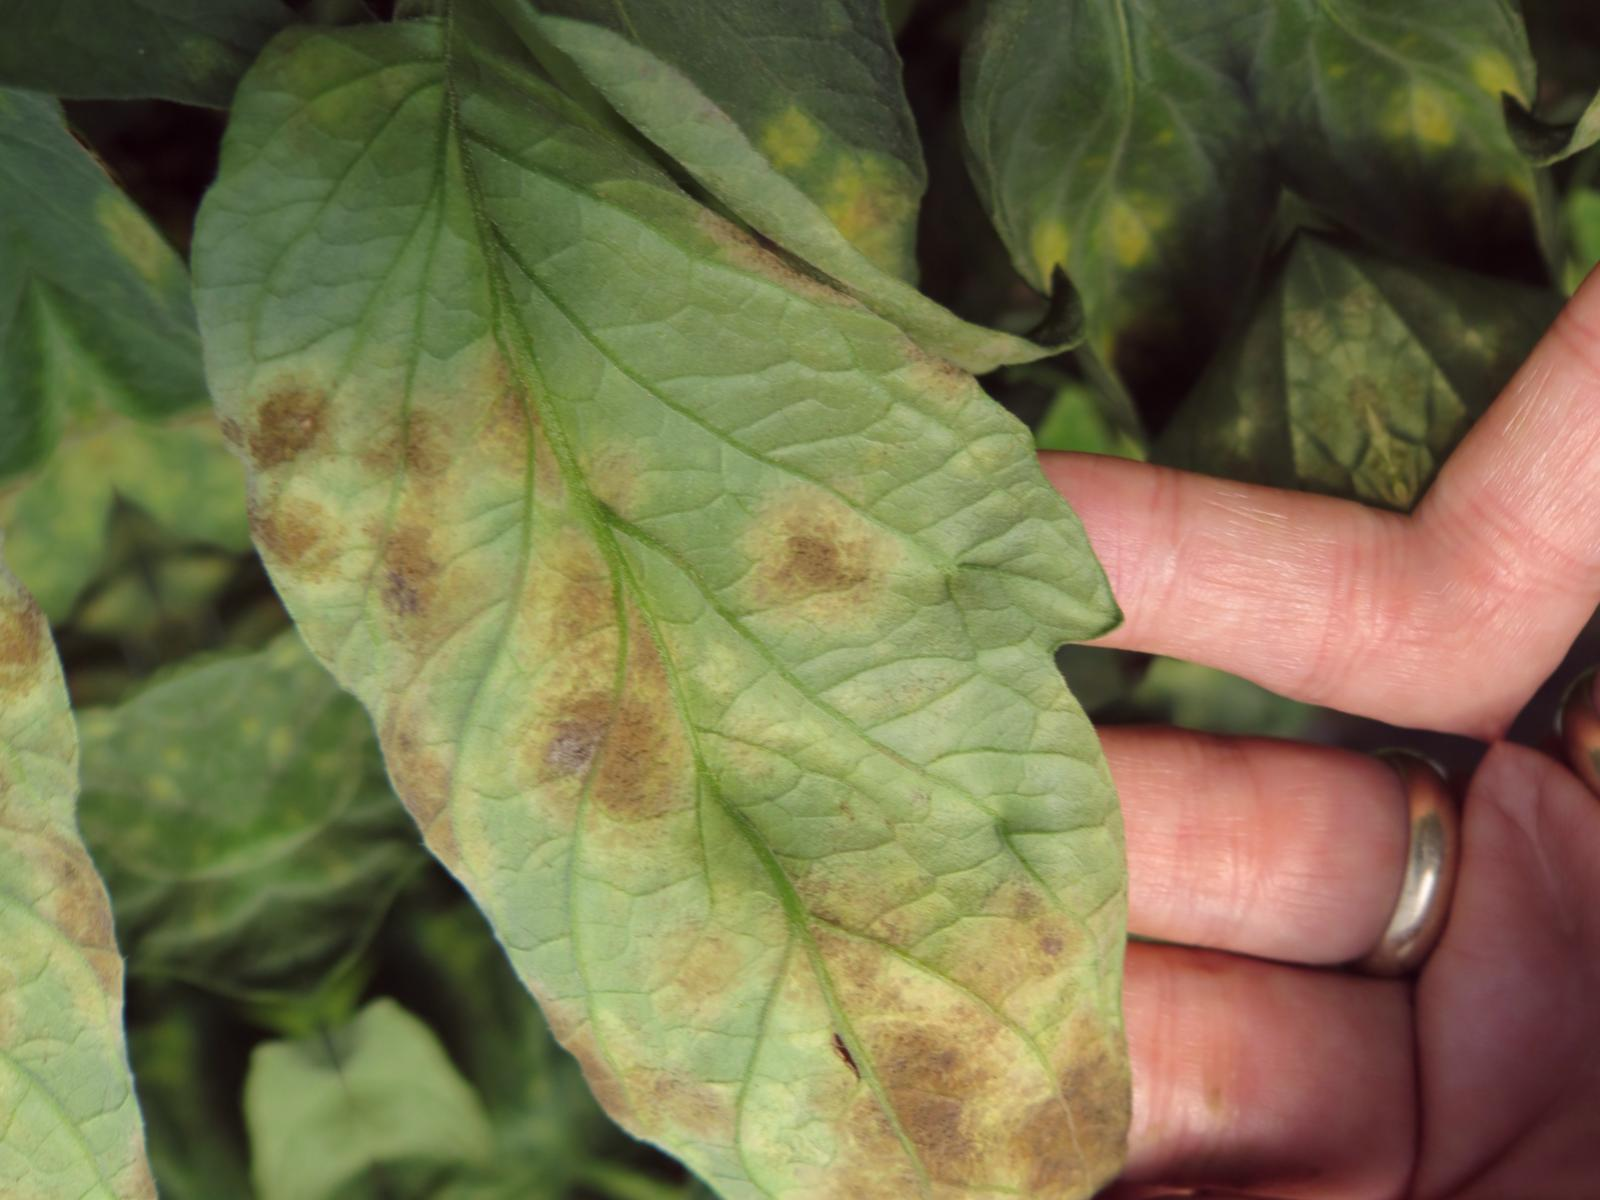Tomato mold leaf: (60, 0, 1347, 1200)
